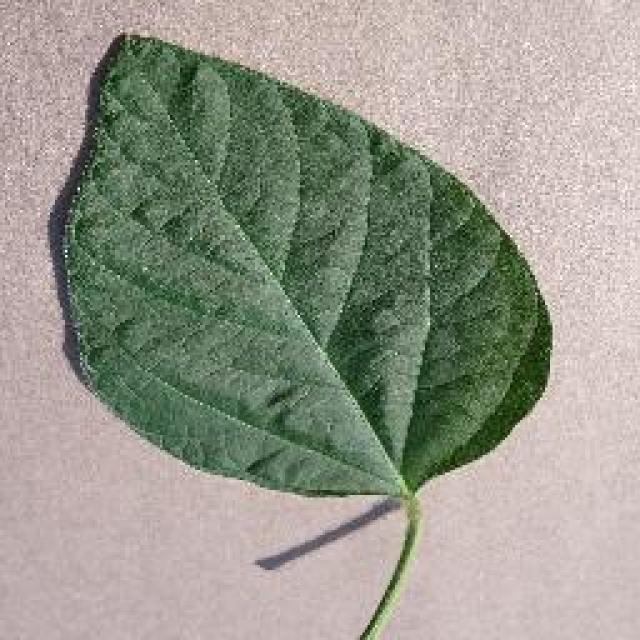Soy_healthy: (60, 37, 500, 500)
